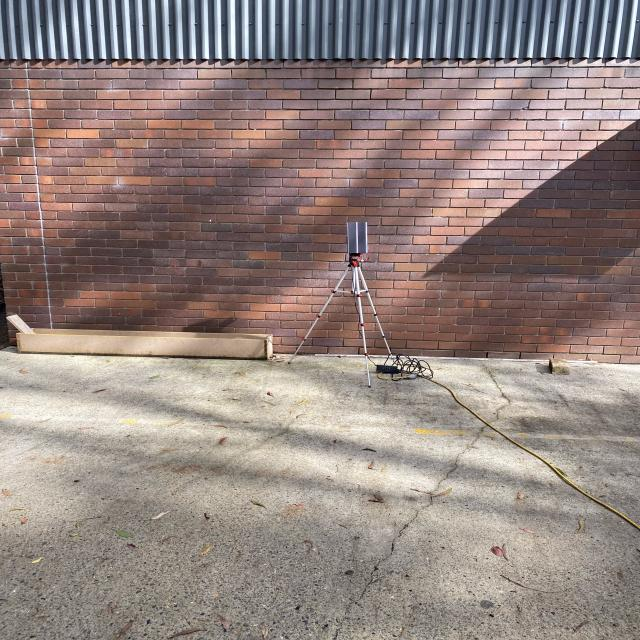matrix: (343, 220, 372, 255)
